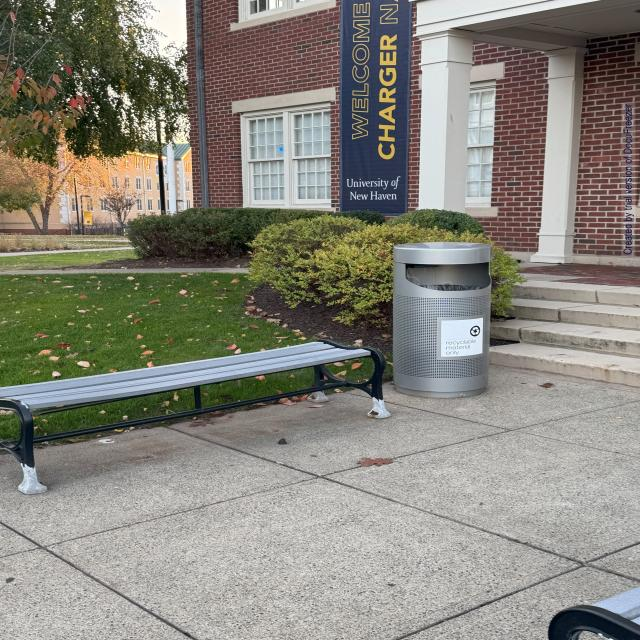Trash bin: (383, 225, 512, 412)
chair: (0, 319, 384, 493)
